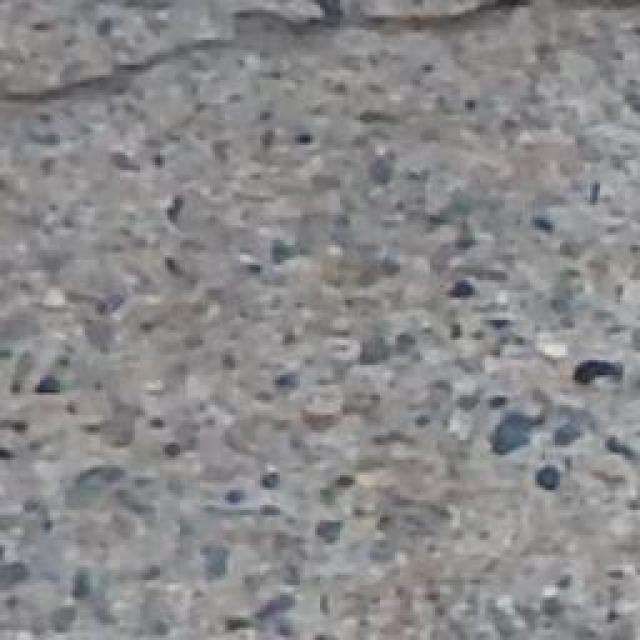concrete-crack: (1, 0, 561, 121), (570, 352, 628, 400)
